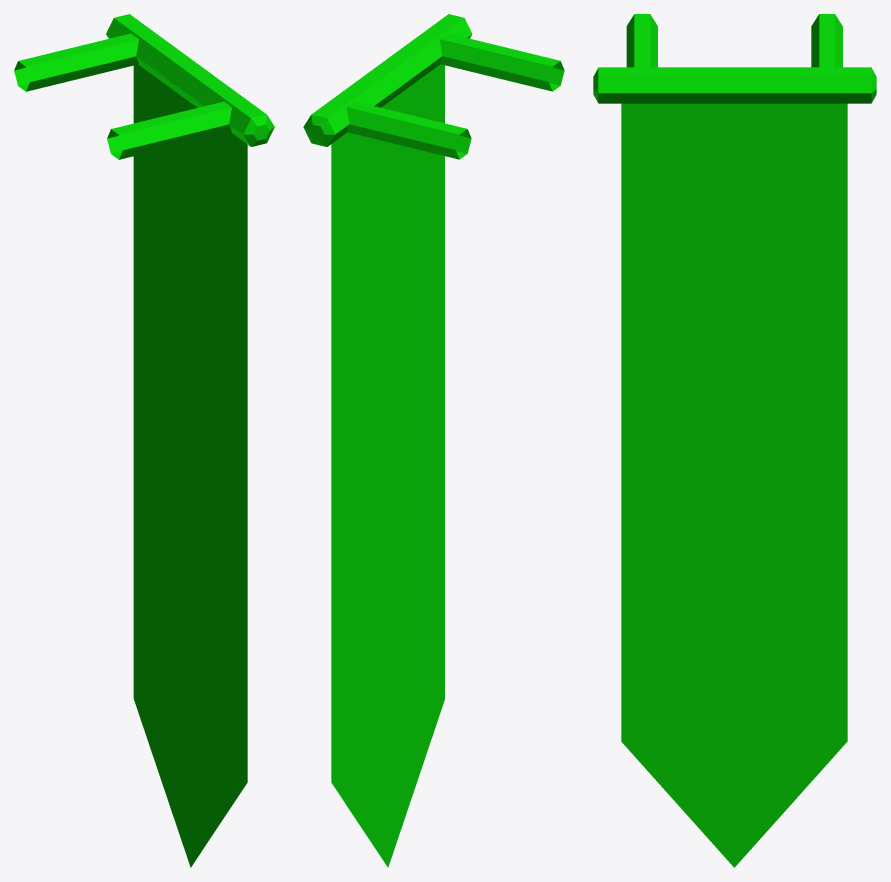
Rendered from Flags_Min_1.fbx.
The picture shows the model from 3 angles, left to right: view 1: azimuth 30°, elevation 25°; view 2: azimuth 150°, elevation 25°; view 3: azimuth 270°, elevation 25°; orthographic projection.
Visible parts, largest first — view 1: Flag_3; view 2: Flag_3; view 3: Flag_3.
Boxes of the visible parts, bbox=[...] form: Flag_3: bbox=[14, 14, 274, 867]; Flag_3: bbox=[303, 14, 564, 867]; Flag_3: bbox=[593, 14, 876, 867].
Size of the model in its own units: 27.86 by 155 by 49.83.
